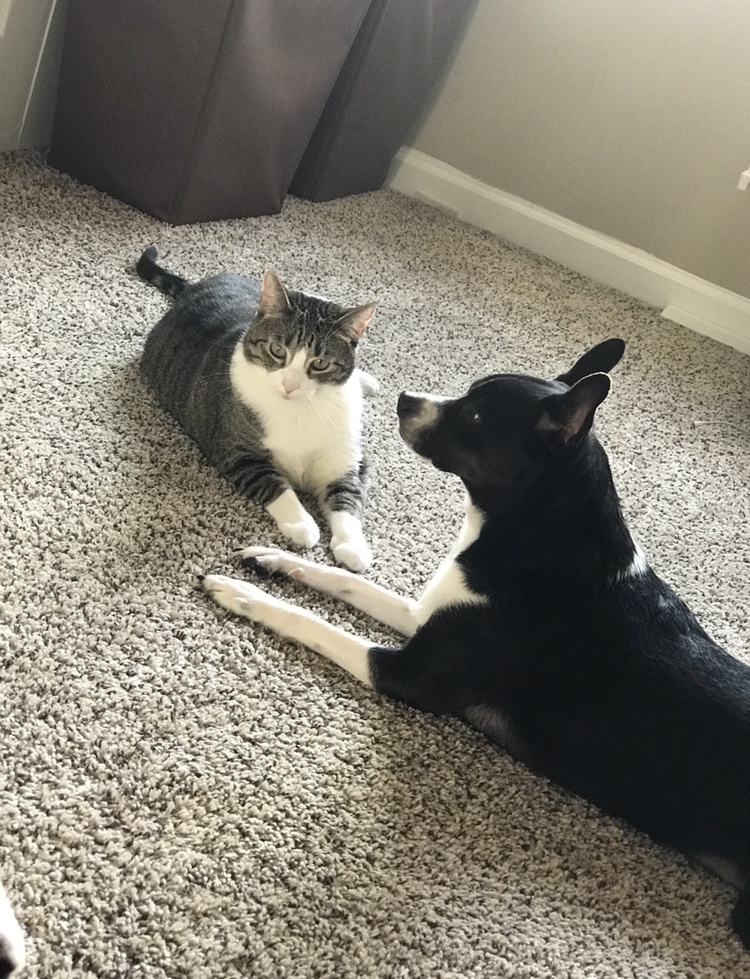Harley: (201, 324, 750, 933)
